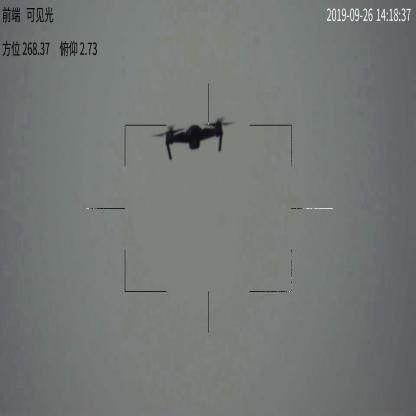uav: (148, 114, 235, 159)
